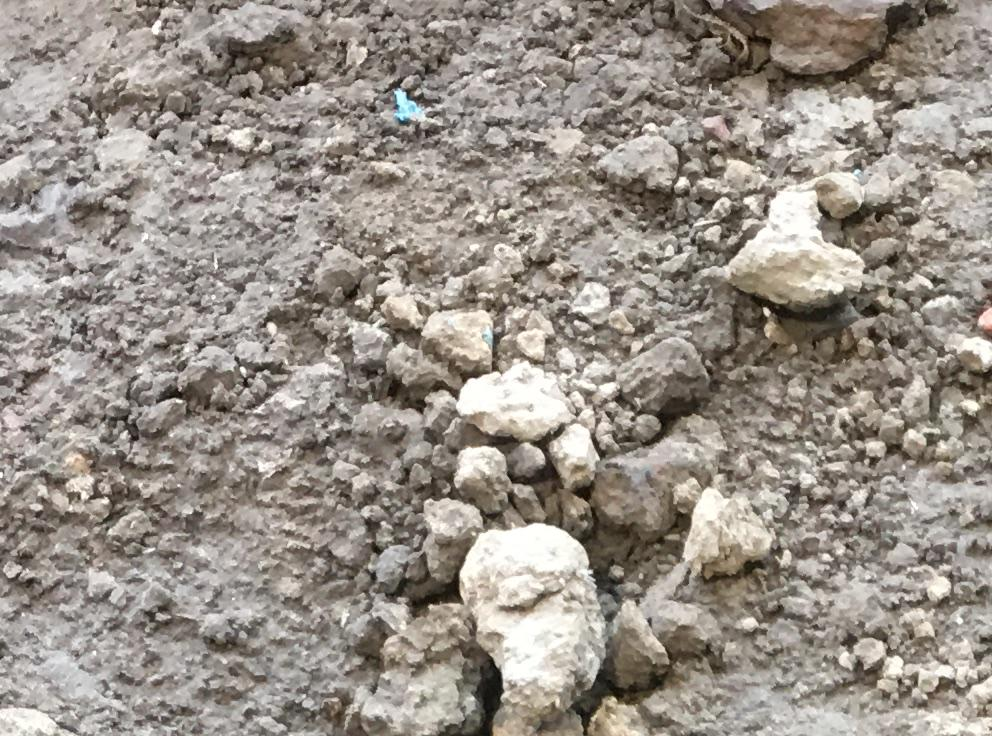block: (461, 525, 609, 729), (727, 188, 861, 318), (457, 357, 574, 446)
